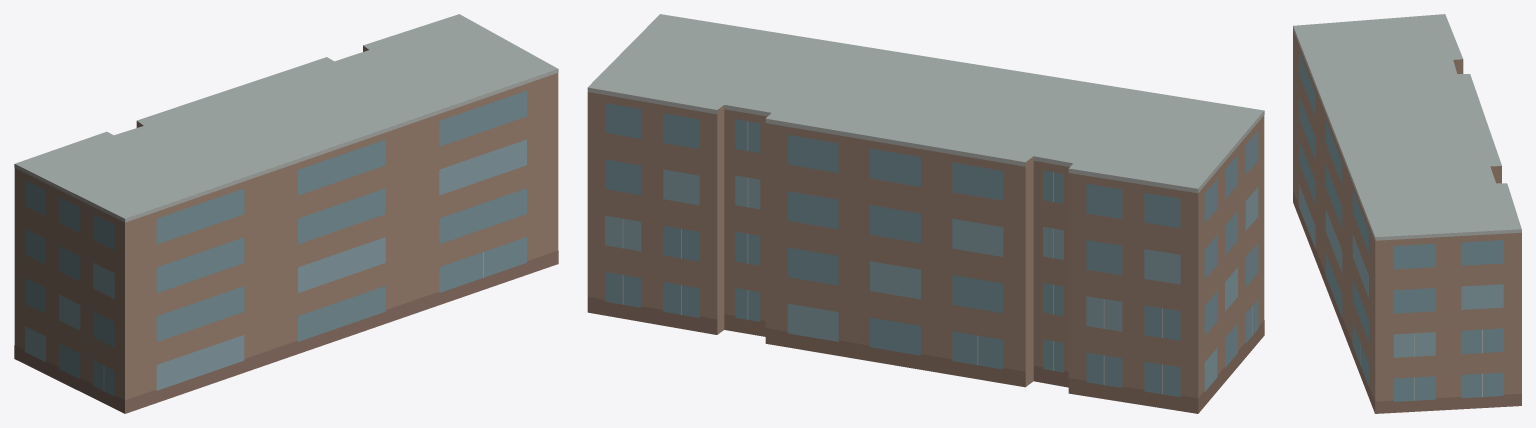
The model's file is survey-upis-32575161.glb.
The picture shows the model from 3 angles, left to right: view 1: azimuth 30°, elevation 25°; view 2: azimuth 150°, elevation 25°; view 3: azimuth 270°, elevation 25°; orthographic projection. The views are drawn at different scales.
Parts seen in each view (by area): view 1: survey-upis-32575161.tmp; view 2: survey-upis-32575161.tmp; view 3: survey-upis-32575161.tmp.
Part boxes in pixels (x1,y1,x2,y2): survey-upis-32575161.tmp: [14, 14, 558, 413]; survey-upis-32575161.tmp: [587, 14, 1264, 413]; survey-upis-32575161.tmp: [1293, 14, 1521, 413].
Size of the model in its own units: 33.62 by 12.4 by 14.56.
